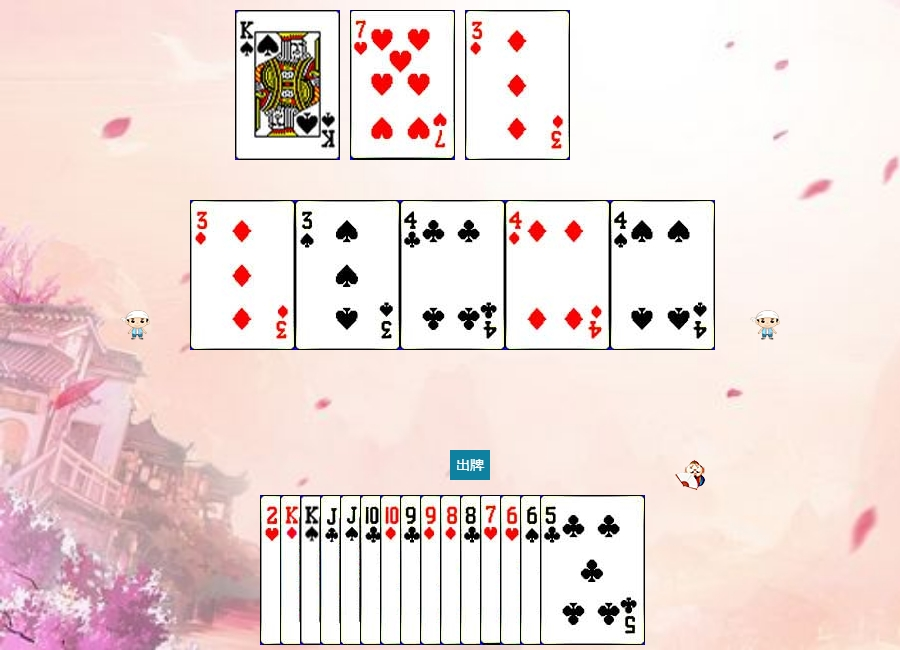10~1: (380, 495, 485, 645)
10~2: (360, 495, 465, 645)
11~2: (320, 495, 425, 645)
11~4: (340, 495, 445, 645)
13~1: (280, 495, 385, 645)
13~4: (235, 10, 340, 160), (300, 495, 405, 645)
15~3: (260, 495, 365, 645)
3~1: (465, 10, 570, 160), (190, 200, 295, 350)
3~4: (295, 200, 400, 350)
4~1: (505, 200, 610, 350)
4~2: (400, 200, 505, 350)
4~4: (610, 200, 715, 350)
5~2: (540, 495, 645, 645)
6~3: (500, 495, 605, 645)
6~4: (520, 495, 625, 645)
7~3: (350, 10, 455, 160), (480, 495, 585, 645)
8~1: (440, 495, 545, 645)
8~2: (460, 495, 565, 645)
9~1: (420, 495, 525, 645)
9~2: (400, 495, 505, 645)
